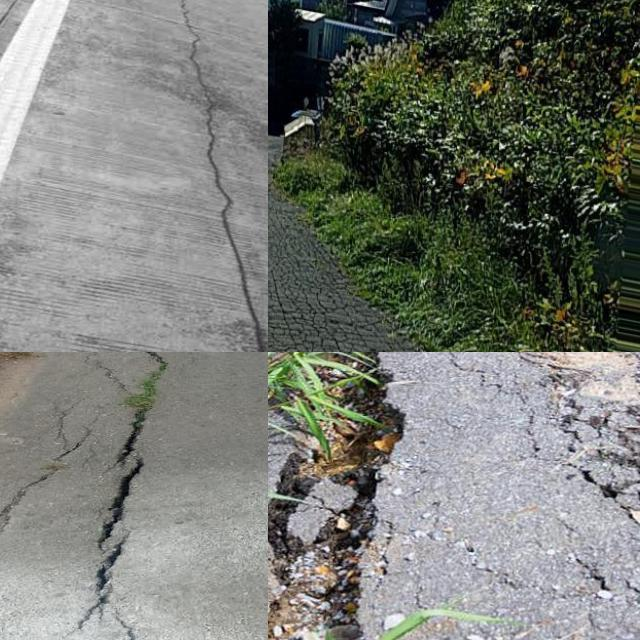Memanjang: (71, 352, 187, 640), (175, 0, 268, 352)
Pinggir: (268, 352, 423, 640)
